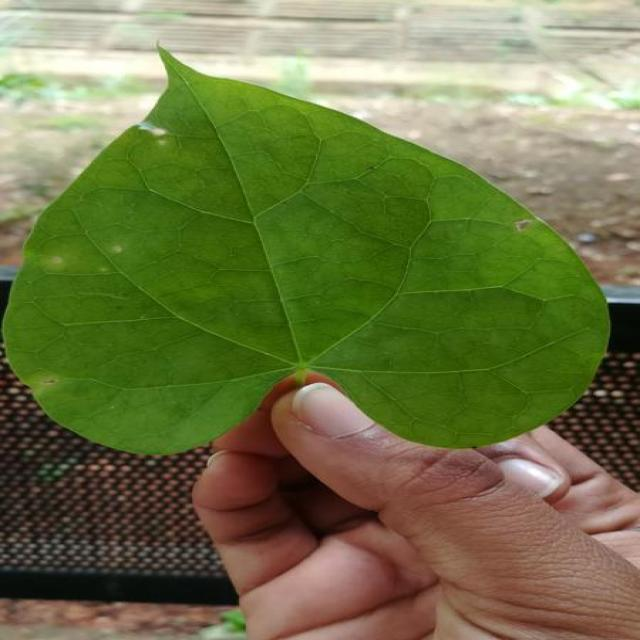Amruthaballi: (5, 50, 608, 454)
defectedAmruthaballi: (5, 121, 207, 453)
